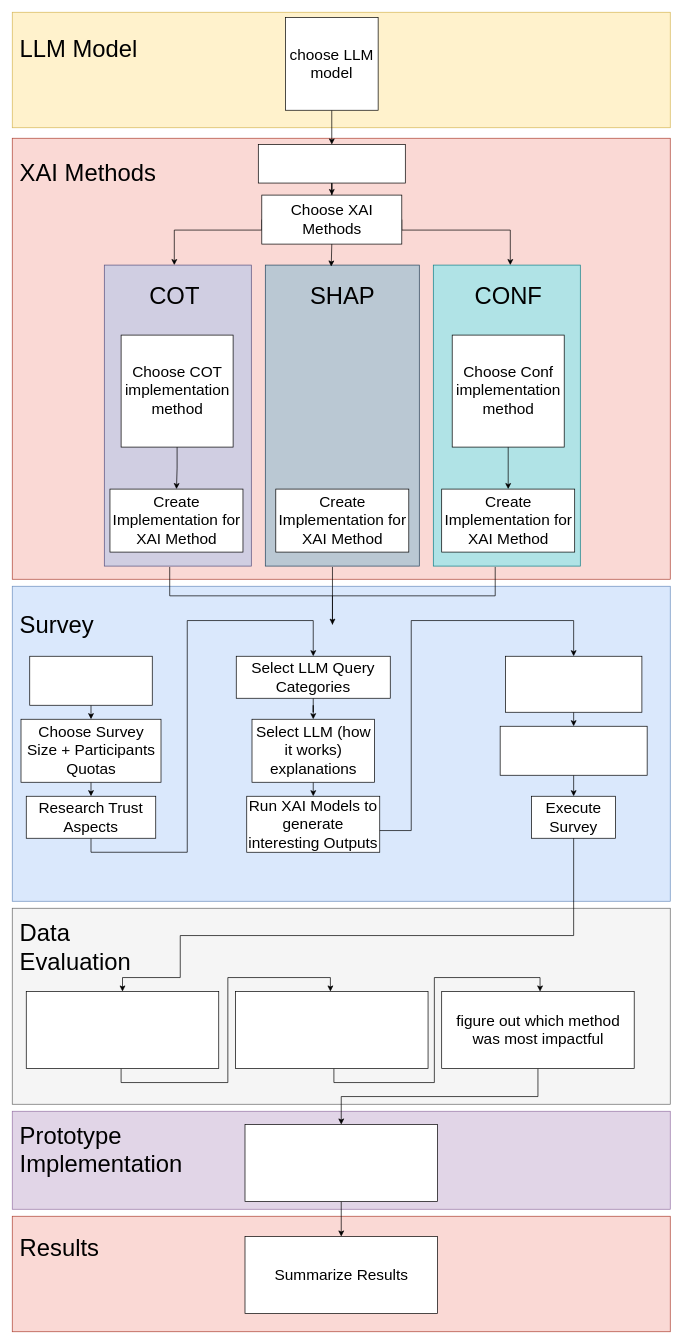
The diagram is 683 pixels wide and 1344 high, and some of its shapes have lost their labels. The box of each missing label's shape, as (x1, y1, x2, y2) in pixels:
anaylze different people groups reaction to XAI methods + explanation: (235, 991, 428, 1069)
Choose Survey Tool: (29, 656, 152, 705)
Cleanup Data Results: (26, 991, 219, 1069)
Design Survey Paths: (505, 656, 642, 712)
Implement Prototype of most impactful method: (244, 1124, 438, 1202)
Research Explainability methods: (258, 144, 405, 183)
Work with Bilendi for Feedback on Survey: (499, 726, 647, 775)
